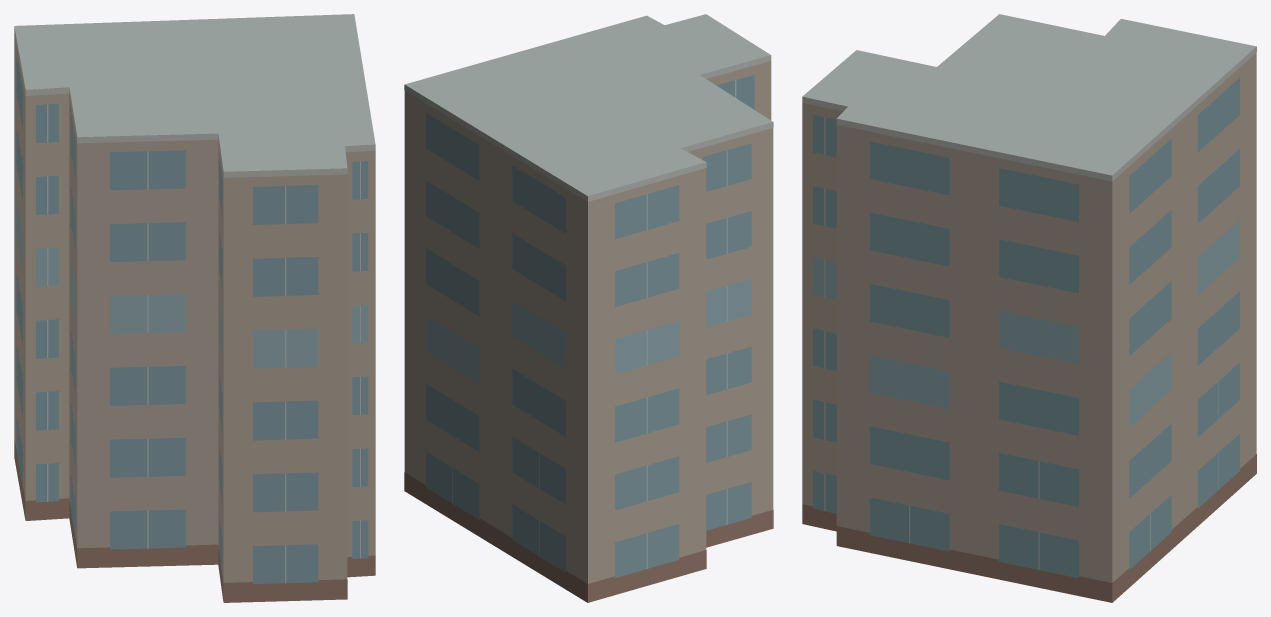
The model's file is survey-upis-32886047.glb.
3 views of the same model, side by side, from view 1: azimuth 30°, elevation 25°; view 2: azimuth 150°, elevation 25°; view 3: azimuth 270°, elevation 25° (orthographic). The views are drawn at different scales.
Visible parts, largest first — view 1: survey-upis-32886047.tmp; view 2: survey-upis-32886047.tmp; view 3: survey-upis-32886047.tmp.
Part boxes in pixels (x1,y1,x2,y2): survey-upis-32886047.tmp: (14,14,375,602); survey-upis-32886047.tmp: (404,14,773,602); survey-upis-32886047.tmp: (802,14,1256,602).
Bounding box in the file's own units: 14.04 × 17.3 × 16.69.
